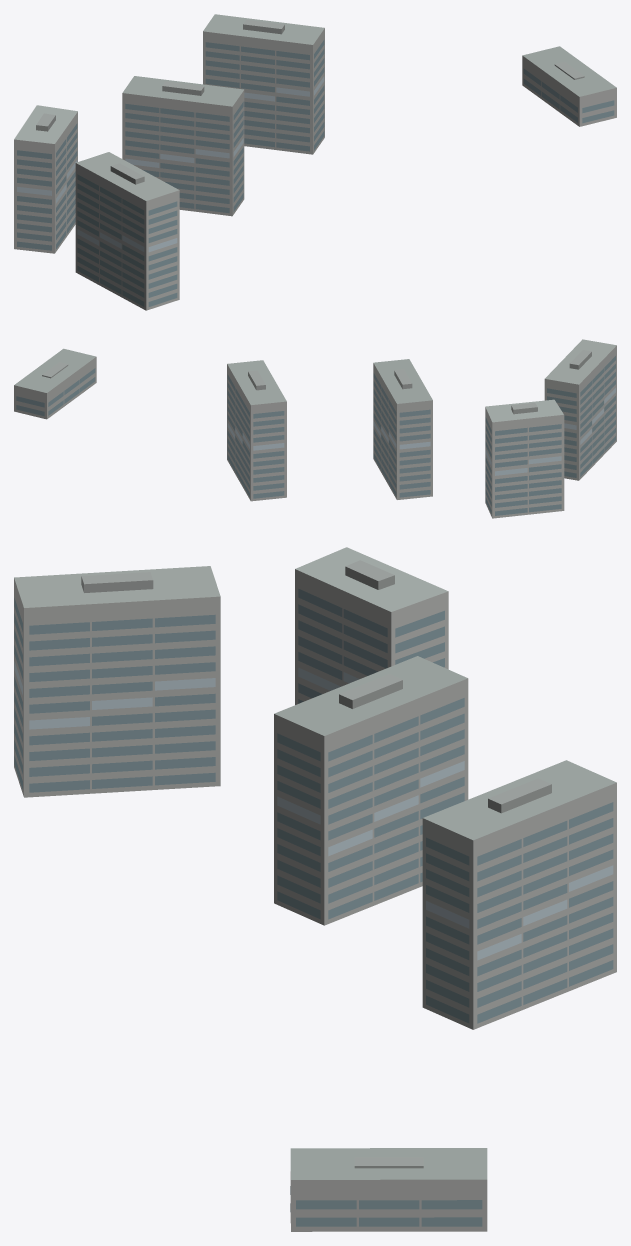
Rendered from apt-a13305005.glb.
3 views of the same model, one above another, from view 1: azimuth 30°, elevation 25°; view 2: azimuth 150°, elevation 25°; view 3: azimuth 270°, elevation 25° (orthographic). The views are drawn at different scales.
Parts seen in each view (by area): view 1: apt-a13305005; view 2: apt-a13305005; view 3: apt-a13305005.
Part boxes in pixels (x1,y1,x2,y2): apt-a13305005: (14, 14, 616, 310); apt-a13305005: (14, 339, 616, 518); apt-a13305005: (14, 547, 616, 1231).
Size of the model in its own units: 187 by 35 by 96.36.
